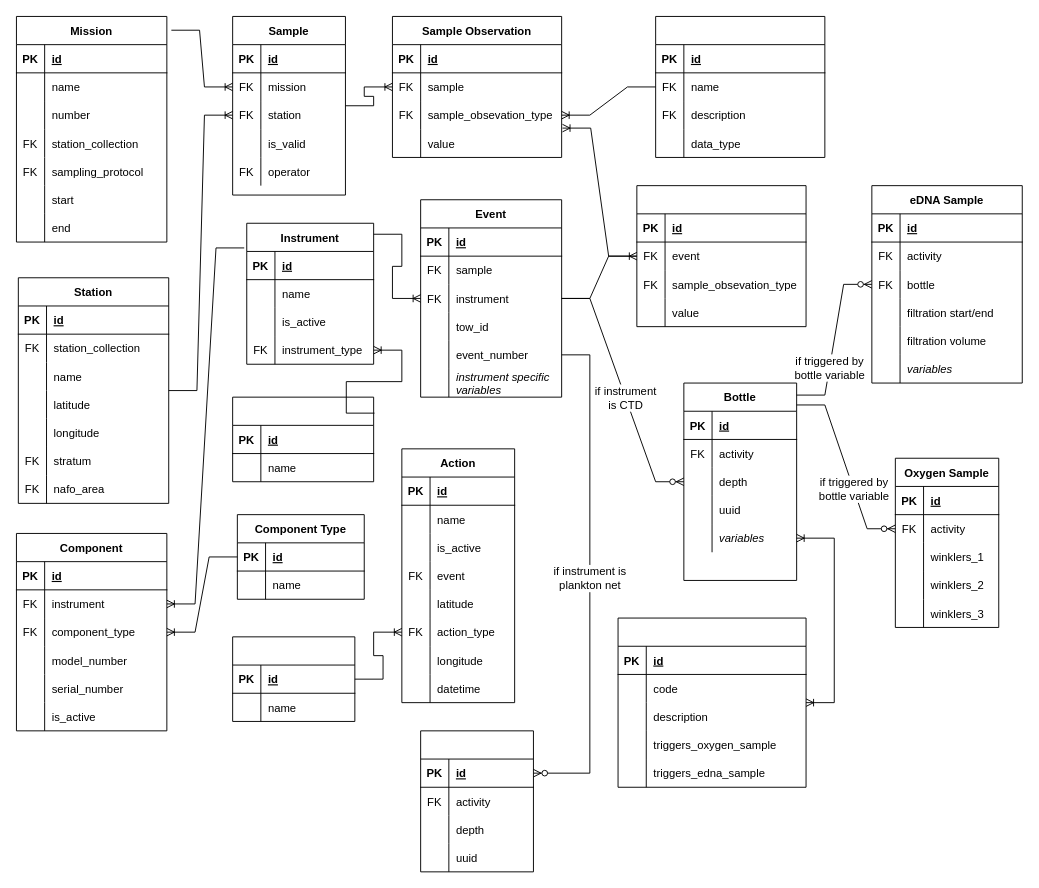
Image size: 1039x888. Some labels were removed from this diagram. The shapes that lost their labels are listed below. From the top down, each one's box as (x1, y1, x2, y2) in pixels, then its label:
(655, 16, 825, 157): Sample Observation Type
(636, 185, 806, 327): Event Observation
(232, 396, 374, 482): Instrument Type
(232, 636, 355, 721): Action Type
(617, 617, 806, 787): Bottle Variable
(420, 730, 533, 872): Plankton Sample
